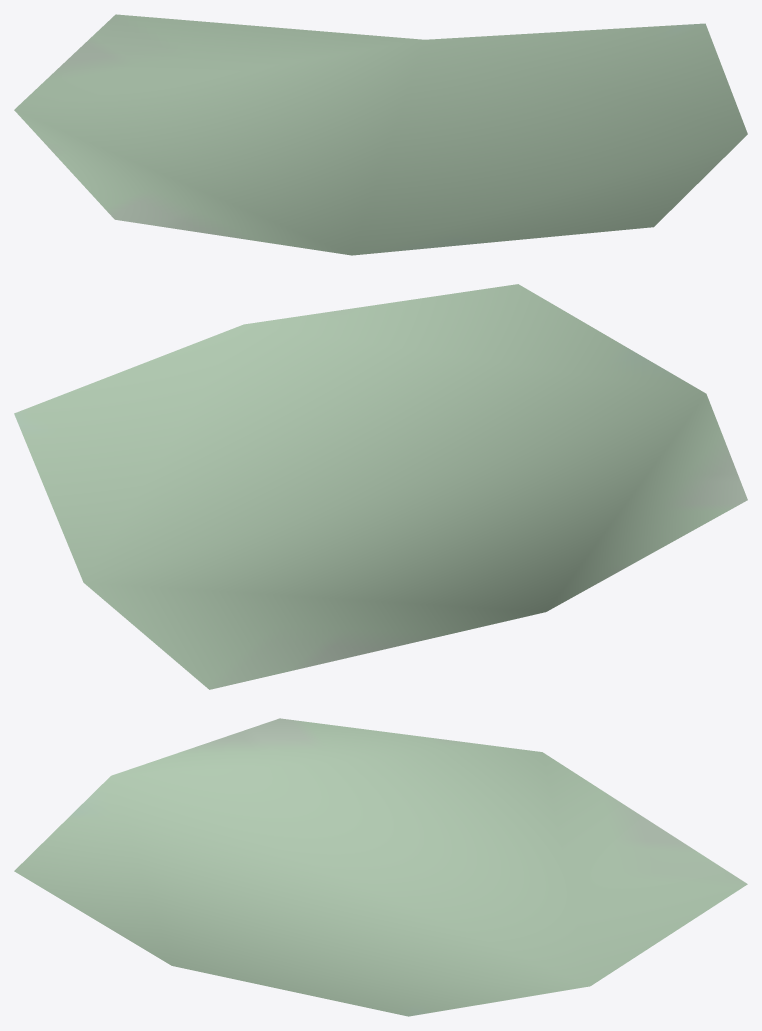
The model's file is TROLLHOLE02_HOLECAP131.fbx.
3 views of the same model, one above another, from view 1: azimuth 30°, elevation 25°; view 2: azimuth 150°, elevation 25°; view 3: azimuth 270°, elevation 25° (orthographic). The views are drawn at different scales.
Visible parts, largest first — view 1: TROLLHOLE02_HOLECAP131; view 2: TROLLHOLE02_HOLECAP131; view 3: TROLLHOLE02_HOLECAP131.
Boxes of the visible parts, x1,y1,x2,y2 form: TROLLHOLE02_HOLECAP131: (14,14,747,255); TROLLHOLE02_HOLECAP131: (14,284,747,689); TROLLHOLE02_HOLECAP131: (14,718,747,1016).
Size of the model in its own units: 31130 by 3679 by 34426.
1 material, 1 textured.
